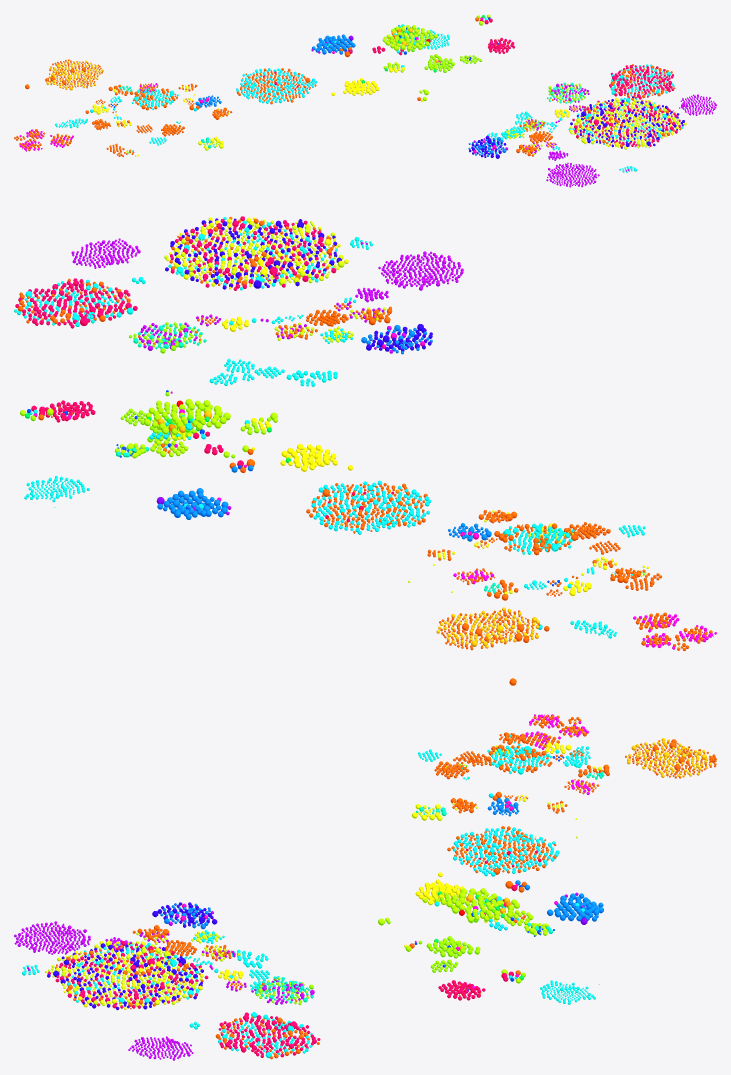
File: task-e97bcce38-layout.gltf
3 views of the same model, one above another, from view 1: azimuth 30°, elevation 25°; view 2: azimuth 150°, elevation 25°; view 3: azimuth 270°, elevation 25° (orthographic). The views are drawn at different scales.
Visible parts, largest first — view 1: normal_xml_files, normal_no_ext_files, normal_sax2_files, normal_err_files, normal_sax_files, normal_xsd_files, normal_html_files, normal_rdr_files, normal_c_files, normal_rde_files, normal_rng_files, normal_h_files (+4 smaller); view 2: normal_xml_files, normal_no_ext_files, normal_sax2_files, normal_err_files, normal_sax_files, normal_c_files, normal_xsd_files, normal_html_files, normal_rdr_files, normal_rde_files, normal_rng_files, normal_rpgle_files (+2 smaller); view 3: normal_xml_files, normal_no_ext_files, normal_sax2_files, normal_err_files, normal_sax_files, normal_c_files, normal_xsd_files, normal_html_files, normal_rdr_files, normal_rde_files, normal_rng_files, normal_h_files (+3 smaller).
Part boxes in pixels (x1,y1,x2,y2): normal_xml_files: (14,17,681,156); normal_no_ext_files: (55,18,683,172); normal_sax2_files: (572,65,680,146); normal_err_files: (473,83,716,187); normal_sax_files: (469,96,684,158); normal_xsd_files: (236,68,317,103); normal_html_files: (195,34,506,156); normal_rdr_files: (505,99,679,154); normal_c_files: (382,14,490,101); normal_rde_files: (569,98,686,147); normal_rng_files: (46,60,103,90); normal_h_files: (387,15,482,91); normal_xml_files: (17,216,712,685); normal_no_ext_files: (14,217,645,638); normal_sax2_files: (15,216,336,328); normal_err_files: (71,238,463,353); normal_sax_files: (165,218,432,351); normal_c_files: (20,399,277,458); normal_xsd_files: (311,480,431,534); normal_html_files: (157,325,491,541); normal_rdr_files: (164,219,386,342); normal_rde_files: (166,217,348,289); normal_rng_files: (436,607,539,648); normal_rpgle_files: (280,443,352,471); normal_xml_files: (55,714,716,1059); normal_no_ext_files: (22,735,599,1058); normal_sax2_files: (47,941,320,1057); normal_err_files: (14,911,314,1060); normal_sax_files: (47,902,217,1010); normal_c_files: (378,888,548,983); normal_xsd_files: (453,827,559,876); normal_html_files: (160,798,603,929); normal_rdr_files: (45,930,240,1006); normal_rde_files: (52,941,203,1009); normal_rng_files: (627,738,711,777); normal_h_files: (387,895,534,977).
Size of the model in its own units: 444 by 32.73 by 360.
